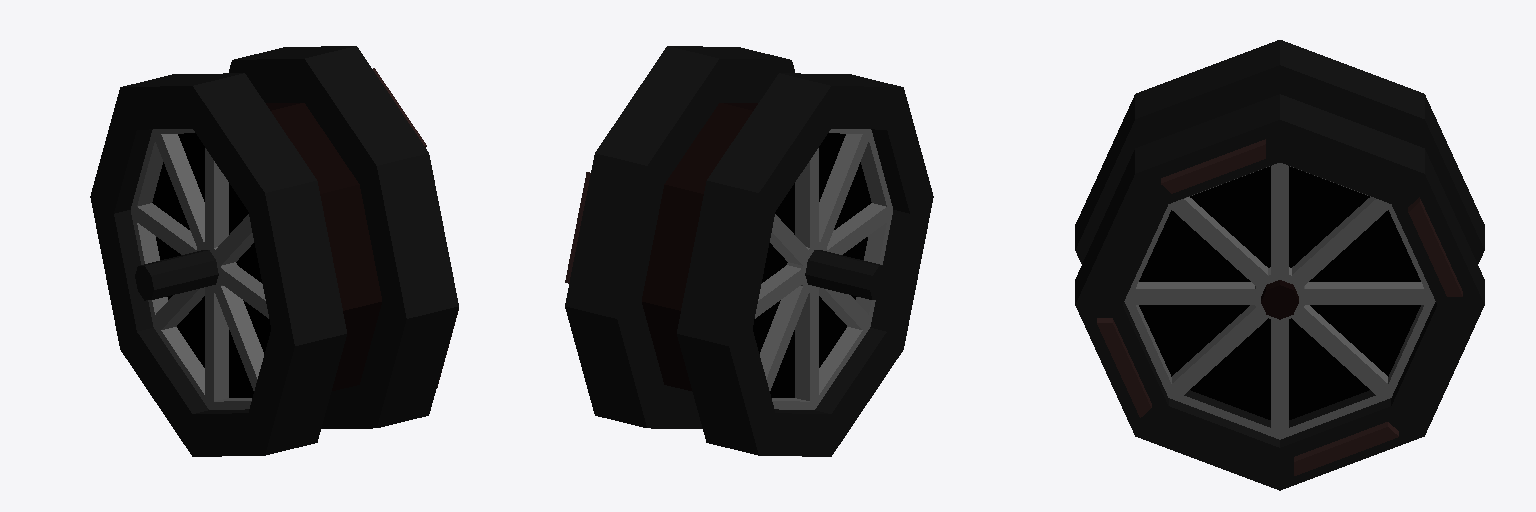
The model's file is Narushat-A_Wheel.obj.
3 renders of one model, left to right at view 1: azimuth 30°, elevation 25°; view 2: azimuth 150°, elevation 25°; view 3: azimuth 270°, elevation 25°, orthographic.
Visible parts, largest first — view 1: Cylinder.001_Cylinder.013; view 2: Cylinder.001_Cylinder.013; view 3: Cylinder.001_Cylinder.013.
Boxes of the visible parts, x1,y1,x2,y2 form: Cylinder.001_Cylinder.013: [90, 46, 458, 456]; Cylinder.001_Cylinder.013: [565, 46, 933, 456]; Cylinder.001_Cylinder.013: [1075, 40, 1484, 490].
Bounding box in the file's own units: 0.1625 × 0.2584 × 0.2584.